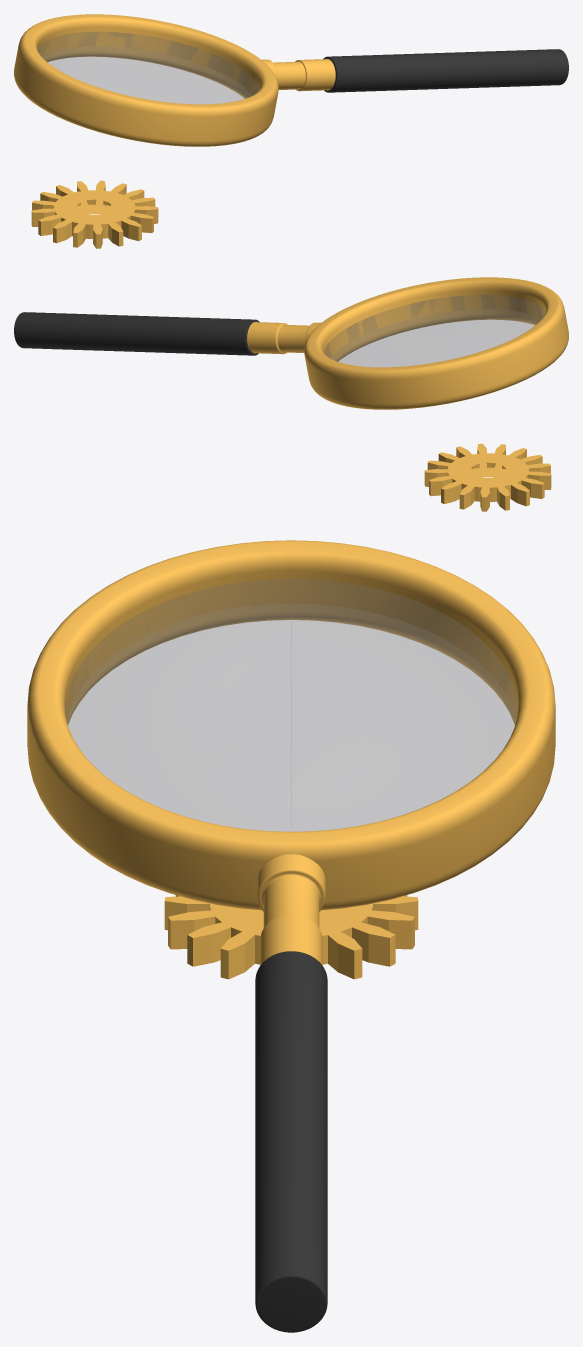
The picture shows the model from 3 angles, top to bottom: view 1: azimuth 30°, elevation 25°; view 2: azimuth 150°, elevation 25°; view 3: azimuth 270°, elevation 25°; orthographic projection. The views are drawn at different scales.
Visible parts, largest first — view 1: Circle.001_3, Circle_2, Circle.002_4, Gear_6; view 2: Circle.001_3, Circle_2, Circle.002_4, Gear_6; view 3: Circle_2, Circle.001_3, Circle.002_4, Gear_6.
Boxes of the visible parts, x1,y1,x2,y2 form: Circle.001_3: (14, 14, 278, 146); Circle_2: (37, 32, 258, 103); Circle.002_4: (261, 49, 568, 92); Gear_6: (31, 180, 158, 248); Circle.001_3: (304, 277, 568, 409); Circle_2: (324, 295, 545, 366); Circle.002_4: (14, 312, 321, 355); Gear_6: (424, 443, 551, 511); Circle_2: (65, 579, 517, 831); Circle.001_3: (27, 540, 555, 910); Circle.002_4: (255, 854, 327, 1332); Gear_6: (164, 895, 418, 979).
Bounding box in the file's own units: 5.4 × 1.66 × 2.33.
